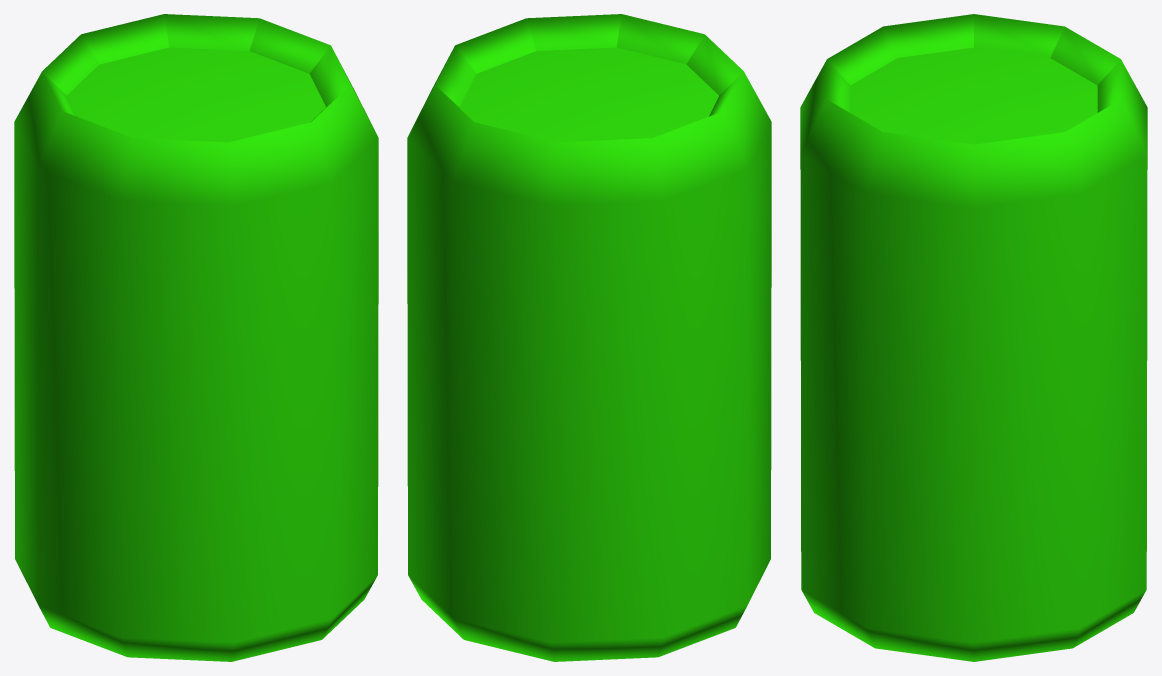
File: Soda_Can_04_Lod1.fbx
3 renders of one model, left to right at view 1: azimuth 30°, elevation 25°; view 2: azimuth 150°, elevation 25°; view 3: azimuth 270°, elevation 25°, orthographic.
Visible parts, largest first — view 1: Soda_Can_04_Lod1; view 2: Soda_Can_04_Lod1; view 3: Soda_Can_04_Lod1.
Part boxes in pixels (x1,y1,x2,y2): Soda_Can_04_Lod1: (14, 14, 378, 661); Soda_Can_04_Lod1: (407, 14, 771, 661); Soda_Can_04_Lod1: (800, 14, 1147, 661).
Size of the model in its own units: 8.93 by 13.81 by 8.49.
